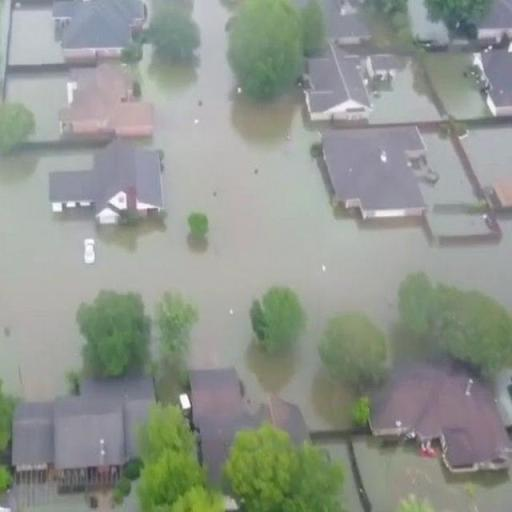flood: (0, 0, 512, 432), (353, 436, 512, 512), (370, 55, 443, 124), (426, 52, 493, 119), (5, 72, 68, 142), (8, 0, 65, 66), (315, 440, 363, 512), (1, 482, 100, 512), (409, 0, 450, 44), (92, 480, 141, 512)
house: (366, 345, 508, 476), (318, 118, 440, 226), (298, 3, 385, 128), (50, 138, 168, 228), (35, 384, 133, 488), (64, 64, 154, 134), (50, 0, 146, 56), (186, 365, 252, 425), (472, 29, 510, 119)
